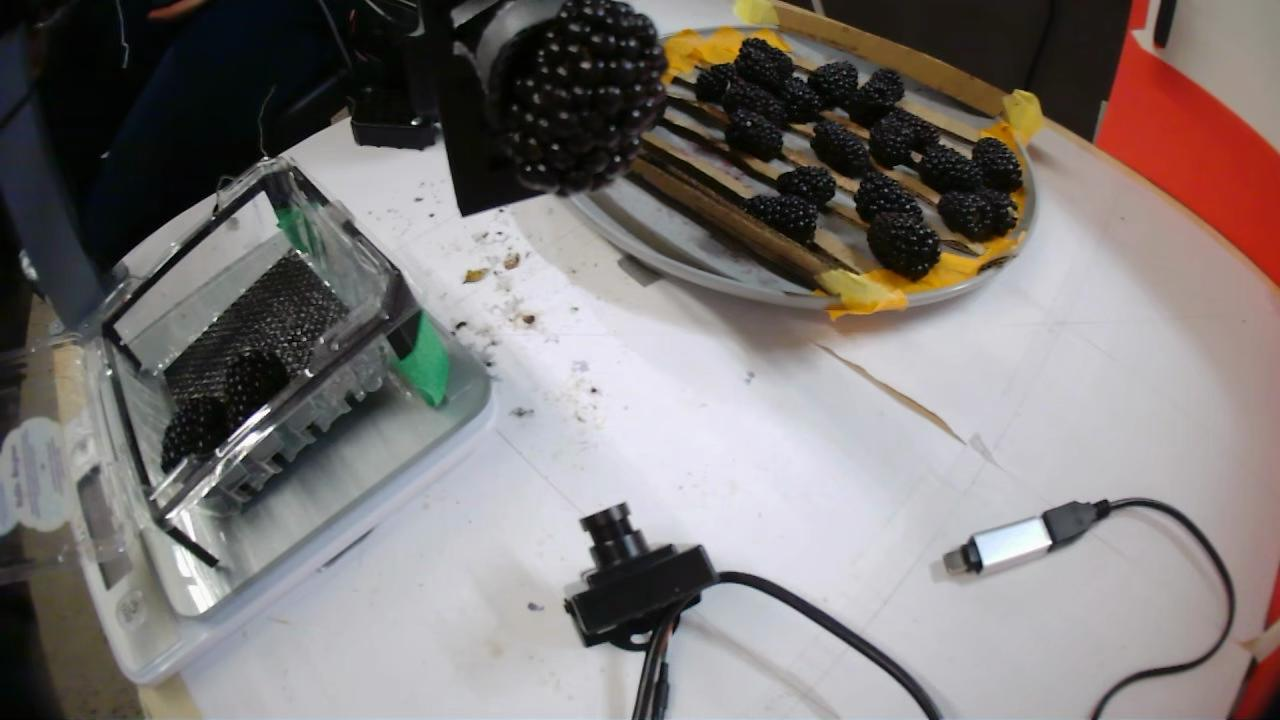berry: (497, 0, 666, 193), (223, 349, 289, 437), (161, 396, 226, 472), (867, 213, 938, 279), (742, 195, 818, 244), (810, 119, 872, 177), (855, 172, 922, 222), (913, 144, 983, 191), (722, 74, 784, 127), (724, 110, 784, 161), (844, 72, 897, 128), (936, 191, 994, 241), (775, 165, 835, 210), (972, 137, 1020, 192), (869, 113, 913, 168), (808, 61, 858, 108), (777, 76, 824, 123), (891, 108, 939, 153), (733, 48, 783, 91), (742, 37, 792, 79), (694, 63, 733, 104), (983, 191, 1015, 237), (866, 68, 903, 101)
